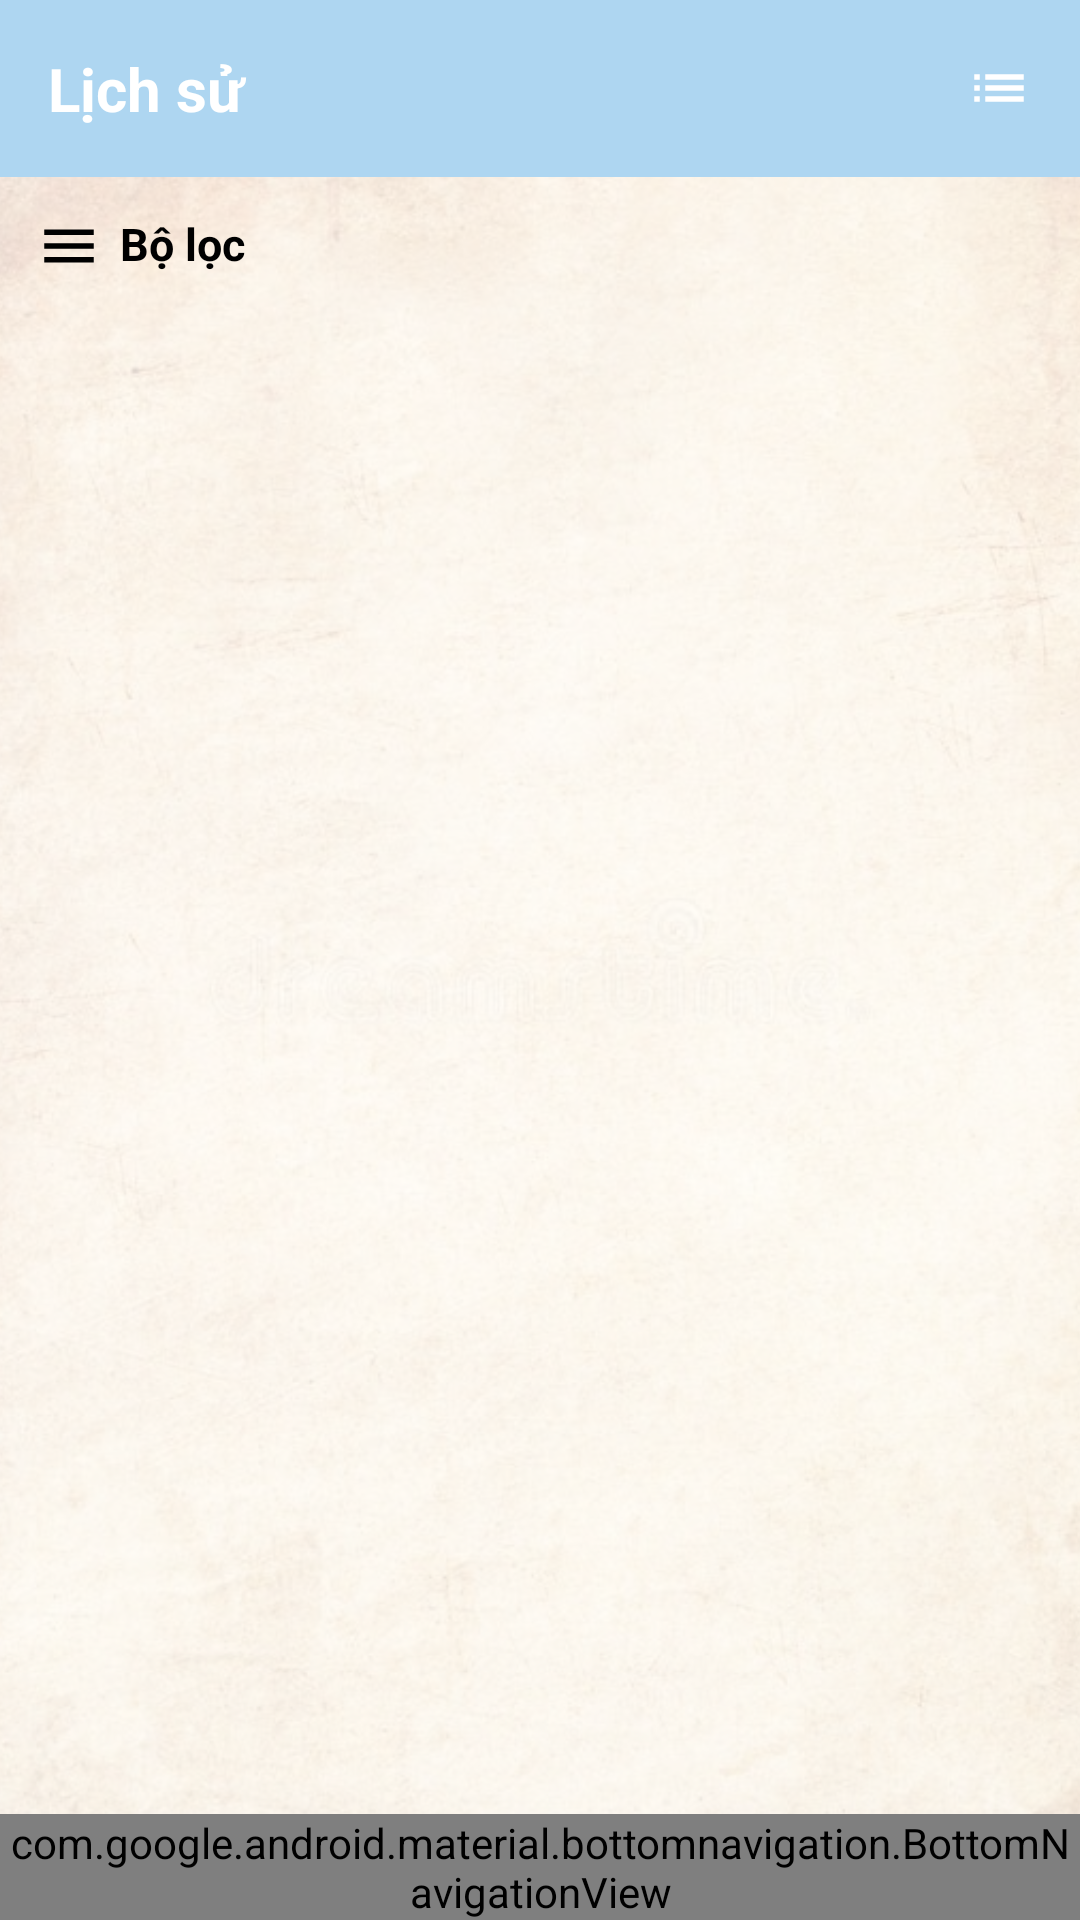

Icon bounding boxes for this 1080x1920 phone screenshot, format (x1,y1,x2,y2):
list: (974,74,1024,102)
menu: (44,229,94,263)
